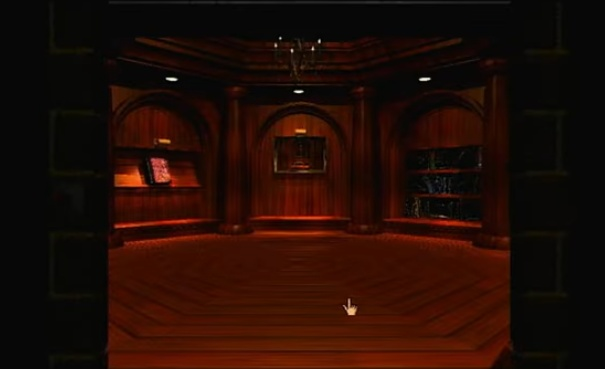Pointer: (340, 293, 361, 318)
